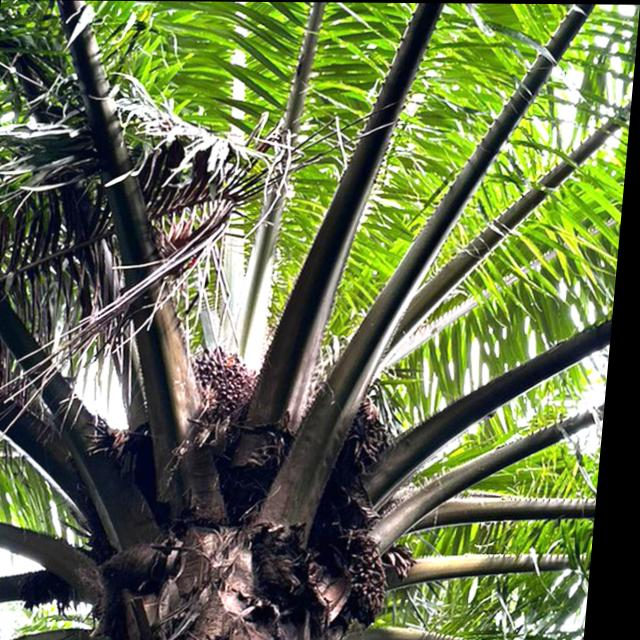ripe: (194, 340, 272, 424)
